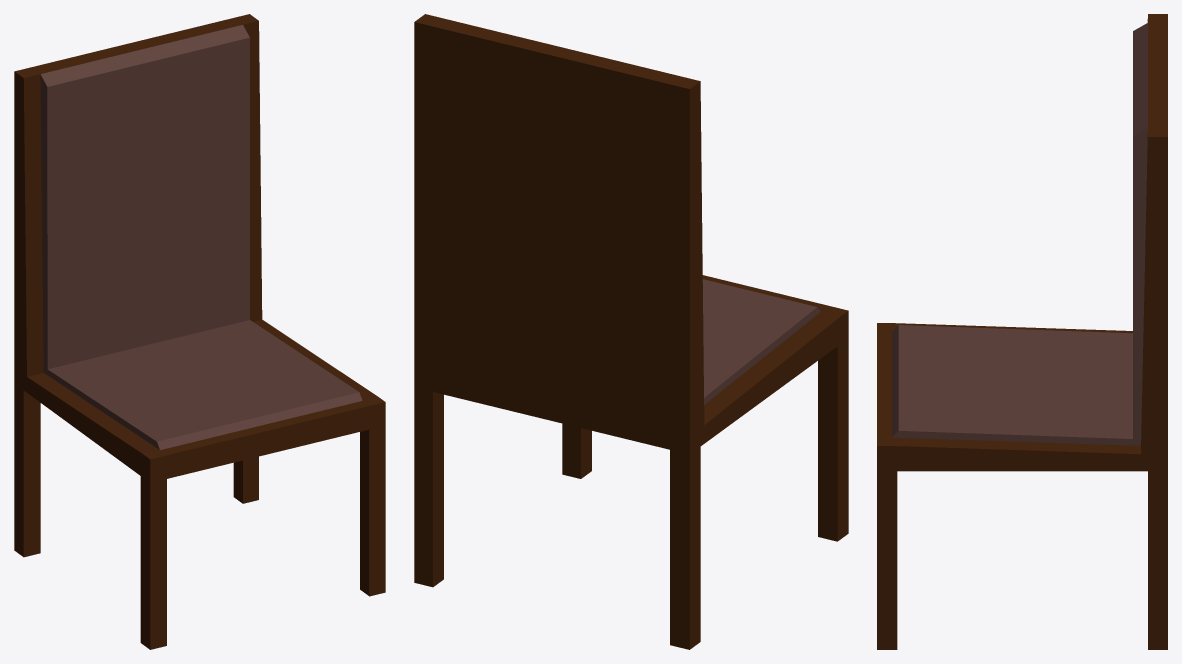
The model's file is chair.fbx.
3 views of the same model, side by side, from view 1: azimuth 30°, elevation 25°; view 2: azimuth 150°, elevation 25°; view 3: azimuth 270°, elevation 25° (orthographic). The views are drawn at different scales.
Visible parts, largest first — view 1: Cube; view 2: Cube; view 3: Cube.
Boxes of the visible parts, left/top/right/bottom form: Cube: left=14, top=14, right=385, bottom=649; Cube: left=414, top=14, right=848, bottom=649; Cube: left=877, top=14, right=1167, bottom=649.
Bounding box in the file's own units: 87.5 × 170 × 87.5.
